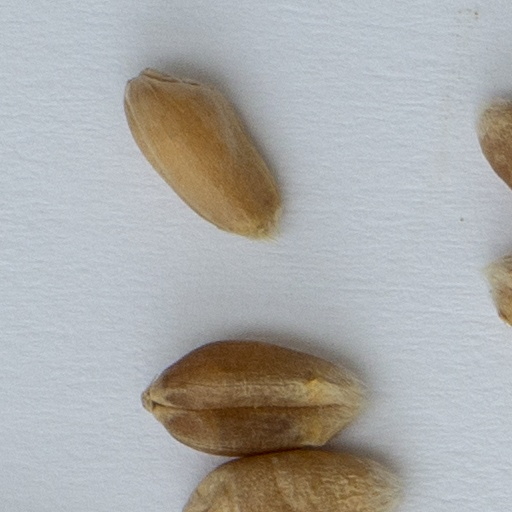Wheat-grain-poly: (120, 63, 285, 242), (138, 338, 373, 456), (178, 448, 400, 511), (477, 98, 511, 193), (476, 248, 511, 328)
